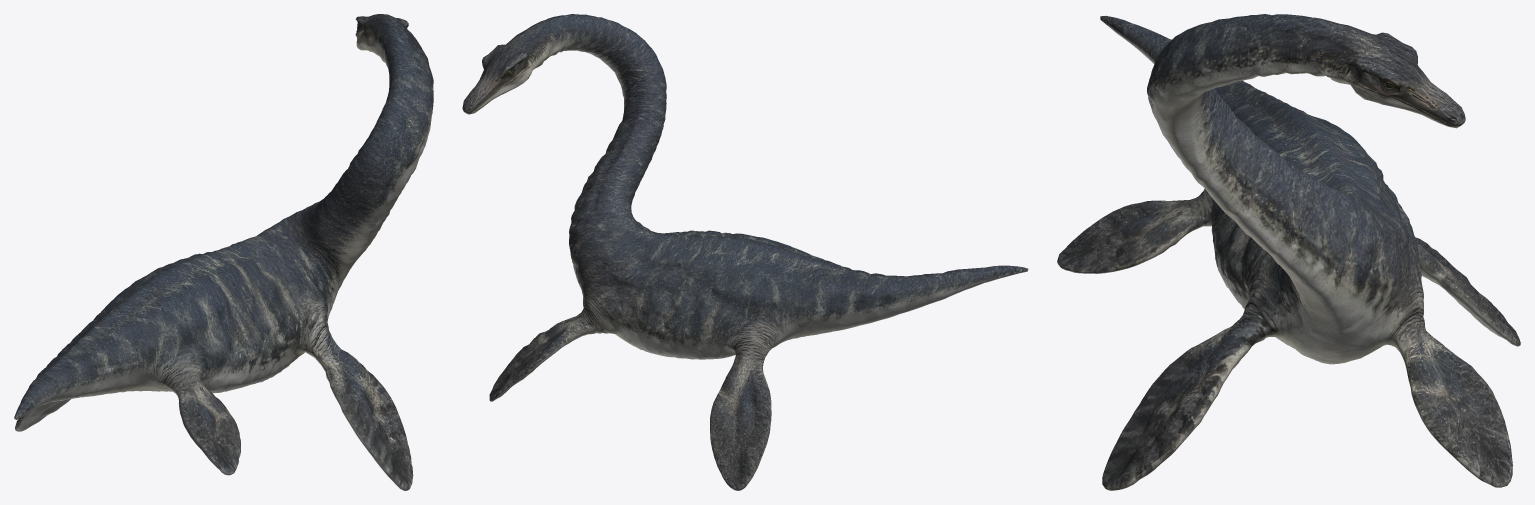
Rendered from dinocephalosaurus.raw.glb.
3 renders of one model, left to right at view 1: azimuth 30°, elevation 25°; view 2: azimuth 150°, elevation 25°; view 3: azimuth 270°, elevation 25°, orthographic. The views are drawn at different scales.
Parts seen in each view (by area): view 1: tripo_node_4f30c63b-3efd-40cd-bb73-4030c1acdd93; view 2: tripo_node_4f30c63b-3efd-40cd-bb73-4030c1acdd93; view 3: tripo_node_4f30c63b-3efd-40cd-bb73-4030c1acdd93.
Part boxes in pixels (x1,y1,x2,y2): tripo_node_4f30c63b-3efd-40cd-bb73-4030c1acdd93: (14,14,433,490); tripo_node_4f30c63b-3efd-40cd-bb73-4030c1acdd93: (462,14,1028,490); tripo_node_4f30c63b-3efd-40cd-bb73-4030c1acdd93: (1057,14,1520,490).
Bounding box in the file's own units: 1 × 0.7541 × 0.6181.
Materials: 1 (1 with a texture image).
